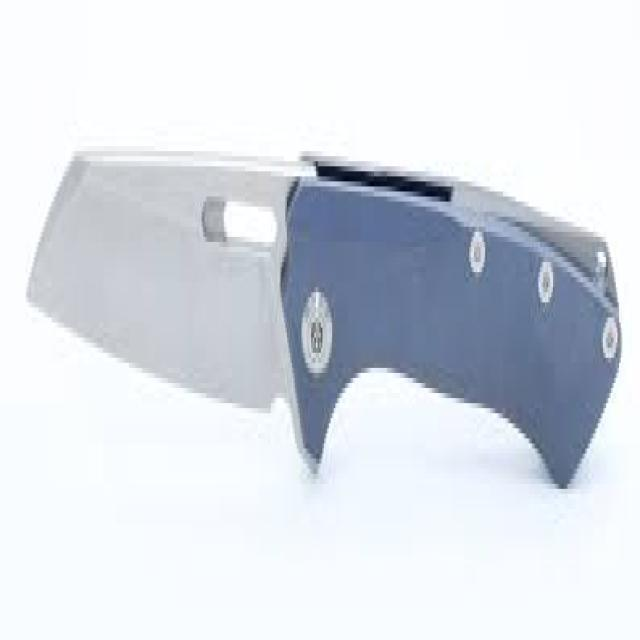knives: (24, 131, 624, 499)
